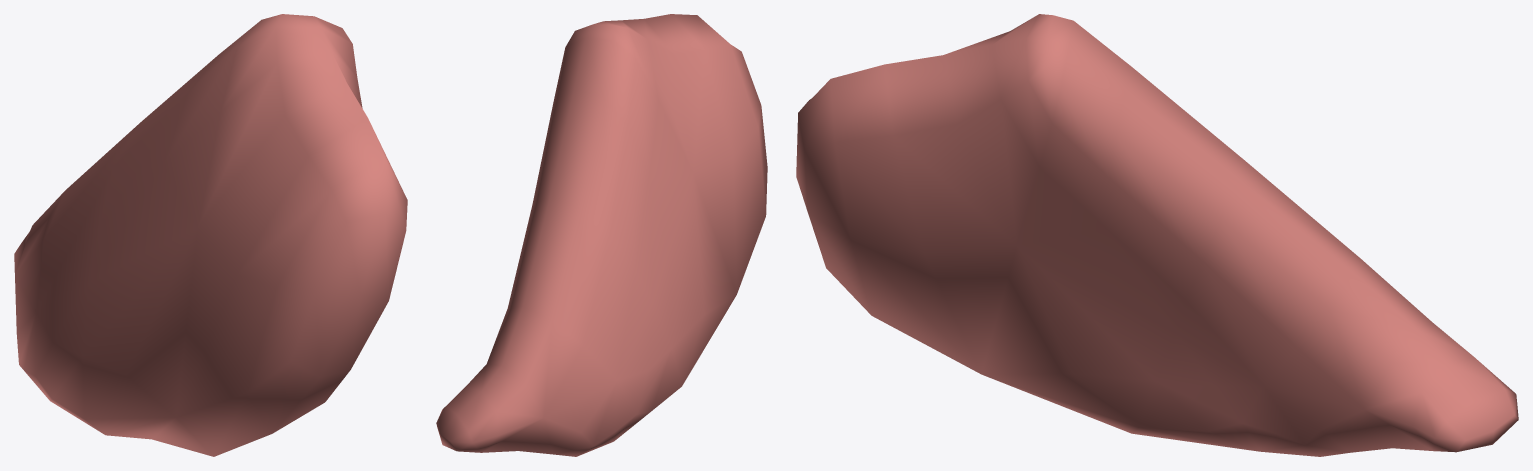
The picture shows the model from 3 angles, left to right: view 1: azimuth 30°, elevation 25°; view 2: azimuth 150°, elevation 25°; view 3: azimuth 270°, elevation 25°; orthographic projection. The views are drawn at different scales.
Parts seen in each view (by area): view 1: ZA_2eeee147215aae74; view 2: ZA_2eeee147215aae74; view 3: ZA_2eeee147215aae74.
Part boxes in pixels (bbox=[...]): ZA_2eeee147215aae74: bbox=[14, 14, 407, 456]; ZA_2eeee147215aae74: bbox=[436, 14, 767, 456]; ZA_2eeee147215aae74: bbox=[796, 14, 1518, 456].
Bounding box in the file's own units: 0.000862 × 0.00176 × 0.00249.
